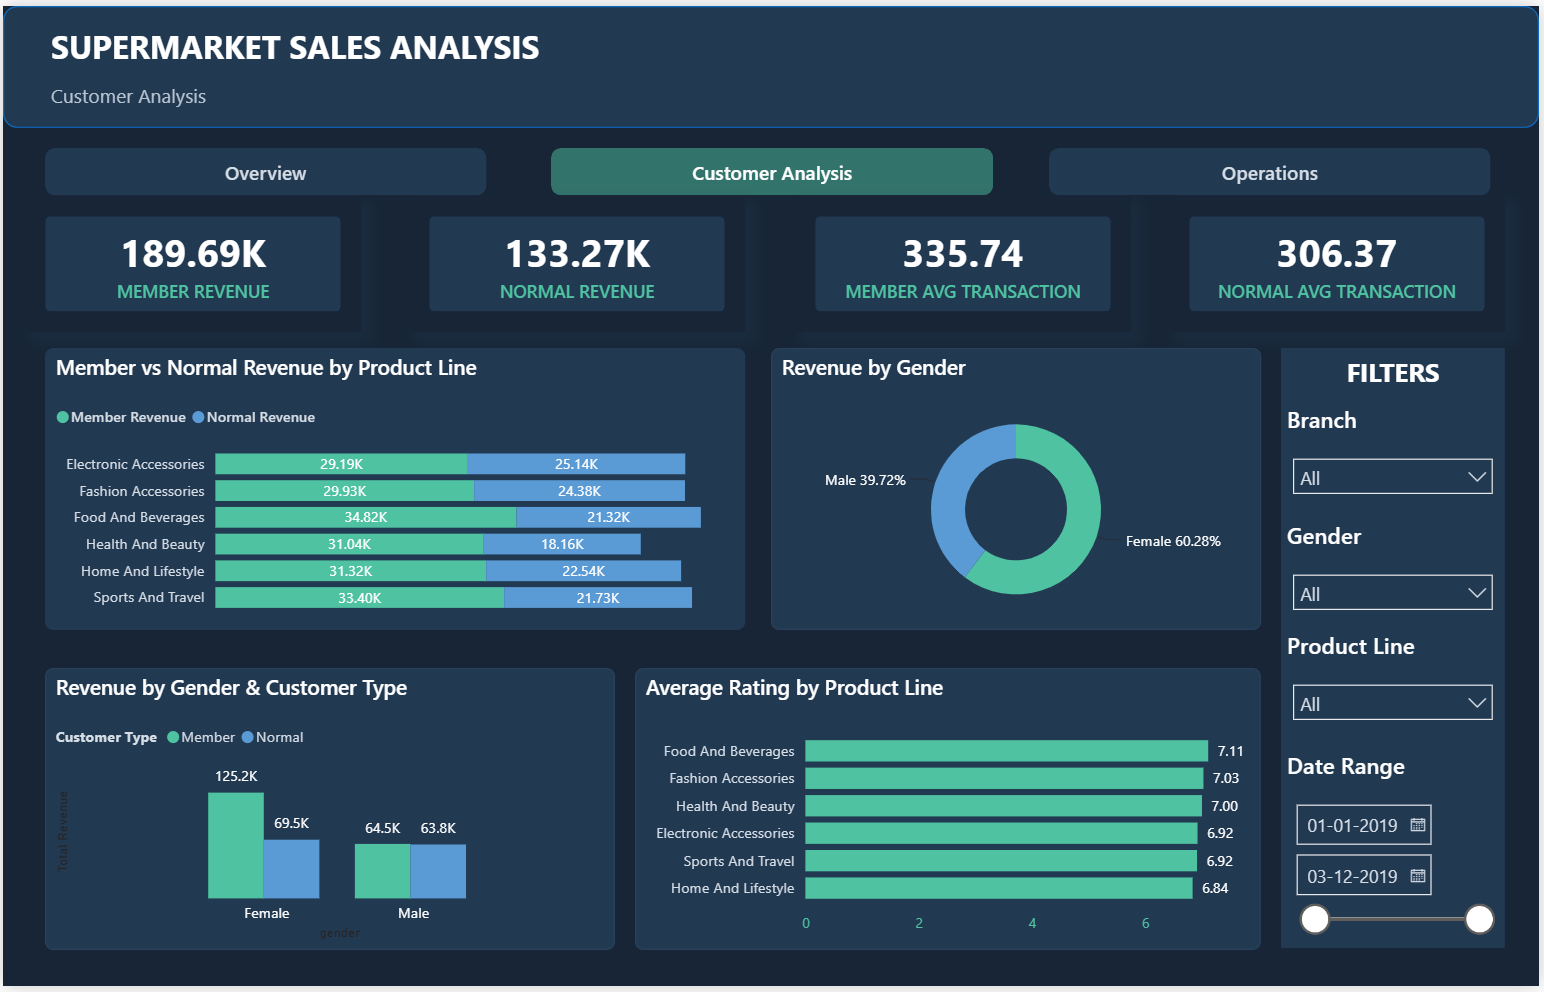

The page's visual inventory and layout, read from the dashboard file:
{"tool":"powerbi","page":{"name":"Customer Analysis","canvas":[1280,817],"ordinal":1},"visuals":[{"type":"shape","box":[0,0,1280,101.6],"z":0},{"type":"textbox","box":[34.9,10.6,458,48.5],"z":1000},{"type":"textbox","box":[34.9,57.6,200.2,31.8],"z":2000},{"type":"actionButton","box":[34.9,118.3,368,39.4],"z":3000},{"type":"actionButton","box":[456.5,118.3,368.5,39.4],"z":4000},{"type":"actionButton","box":[872,118.3,368,39.4],"z":5000},{"type":"cardVisual","fields":{"Data":["supermarket_sales.Member Revenue"]},"box":[18.3,158.3,280,113.7],"z":6000},{"type":"cardVisual","fields":{"Data":["supermarket_sales.Normal Revenue"]},"box":[338.3,158.3,280,113.7],"z":7000},{"type":"cardVisual","fields":{"Data":["supermarket_sales.Member Avg Transaction"]},"box":[660,158.3,280,113.7],"z":8000},{"type":"cardVisual","fields":{"Data":["supermarket_sales.Normal Avg Transaction"]},"box":[971.7,158.3,280,113.7],"z":9000},{"type":"barChart","title":"Member vs Normal Revenue by Product Line","fields":{"Category":["supermarket_sales.product_line"],"Y":["supermarket_sales.Member Revenue","supermarket_sales.Normal Revenue"]},"box":[35,285,583.3,235],"z":11000},{"type":"donutChart","title":"Revenue by Gender","fields":{"Y":["supermarket_sales.Total Revenue"],"Category":["supermarket_sales.gender","supermarket_sales.payment"]},"box":[640,285,408.3,235],"z":12000},{"type":"clusteredBarChart","title":"Average Rating by Product Line","fields":{"Category":["supermarket_sales.product_line"],"Y":["supermarket_sales.Overall Rating"]},"box":[526.7,551.7,521.7,235],"z":13000},{"type":"shape","box":[1065,285,186.7,500],"z":14000},{"type":"clusteredColumnChart","title":"Revenue by Gender & Customer Type","fields":{"Category":["supermarket_sales.gender"],"Y":["supermarket_sales.Total Revenue"],"Series":["supermarket_sales.customer_type"]},"box":[35,551.7,475,235],"z":15000},{"type":"textbox","box":[1065,285,186.7,46.7],"z":16000},{"type":"slicer","title":"Gender","fields":{"Values":["supermarket_sales.gender"]},"box":[1065,428.3,186.7,83.3],"z":17000},{"type":"slicer","title":"Branch","fields":{"Values":["supermarket_sales.branch"]},"box":[1065,331.7,186.7,83.3],"z":18000},{"type":"slicer","title":"Product Line","fields":{"Values":["supermarket_sales.product_line"]},"box":[1065,520,186.7,85],"z":19000},{"type":"slicer","title":"Date Range","fields":{"Values":["supermarket_sales.date"]},"box":[1065,620,186.7,165],"z":20000}]}

Visuals, with their boxes in screenshot pixels (x1, y1, x2, y2), scaled from the page's 1280x817 canvas onto the 1544x992 screenshot:
shape: box=[0, 0, 1543, 123]
textbox: box=[42, 13, 595, 72]
textbox: box=[42, 70, 284, 109]
actionButton: box=[42, 144, 486, 191]
actionButton: box=[551, 144, 995, 191]
actionButton: box=[1052, 144, 1496, 191]
cardVisual - supermarket_sales.Member Revenue: box=[22, 192, 360, 330]
cardVisual - supermarket_sales.Normal Revenue: box=[408, 192, 746, 330]
cardVisual - supermarket_sales.Member Avg Transaction: box=[796, 192, 1134, 330]
cardVisual - supermarket_sales.Normal Avg Transaction: box=[1172, 192, 1510, 330]
"Member vs Normal Revenue by Product Line" barChart: box=[42, 346, 746, 631]
"Revenue by Gender" donutChart: box=[772, 346, 1265, 631]
"Average Rating by Product Line" clusteredBarChart: box=[635, 670, 1265, 955]
shape: box=[1285, 346, 1510, 953]
"Revenue by Gender & Customer Type" clusteredColumnChart: box=[42, 670, 615, 955]
textbox: box=[1285, 346, 1510, 403]
"Gender" slicer: box=[1285, 520, 1510, 621]
"Branch" slicer: box=[1285, 403, 1510, 504]
"Product Line" slicer: box=[1285, 631, 1510, 735]
"Date Range" slicer: box=[1285, 753, 1510, 953]
